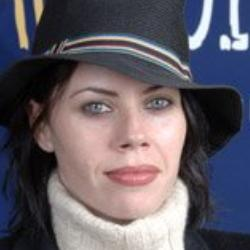face: (8, 32, 215, 237)
